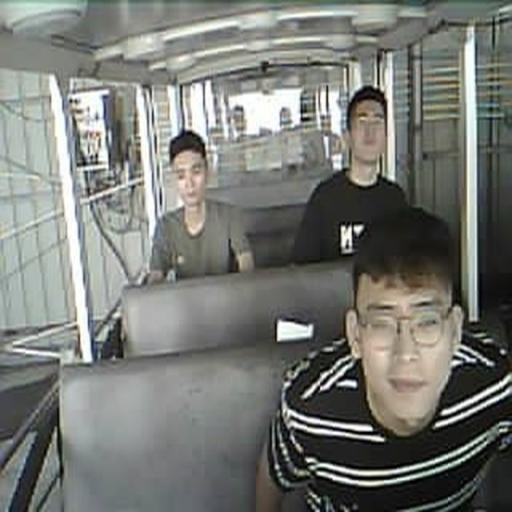persona: (254, 206, 511, 510), (291, 84, 409, 265), (146, 128, 255, 286)
